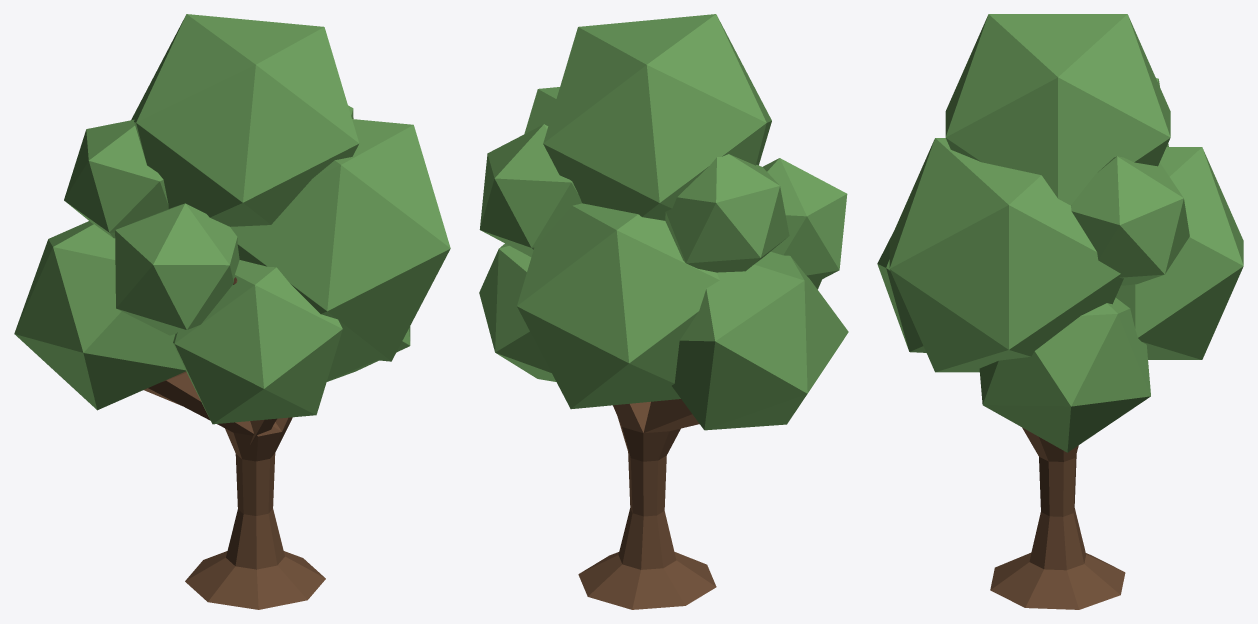
Rendered from pohon-1.fbx.
3 renders of one model, left to right at view 1: azimuth 30°, elevation 25°; view 2: azimuth 150°, elevation 25°; view 3: azimuth 270°, elevation 25°, orthographic.
Visible parts, largest first — view 1: Cylinder.002; view 2: Cylinder.002; view 3: Cylinder.002.
Part boxes in pixels (box(x1,y1,x2,y2)): Cylinder.002: box(14, 14, 450, 609); Cylinder.002: box(479, 14, 848, 609); Cylinder.002: box(877, 14, 1243, 609).
Bounding box in the file's own units: 999 × 1434 × 865.
